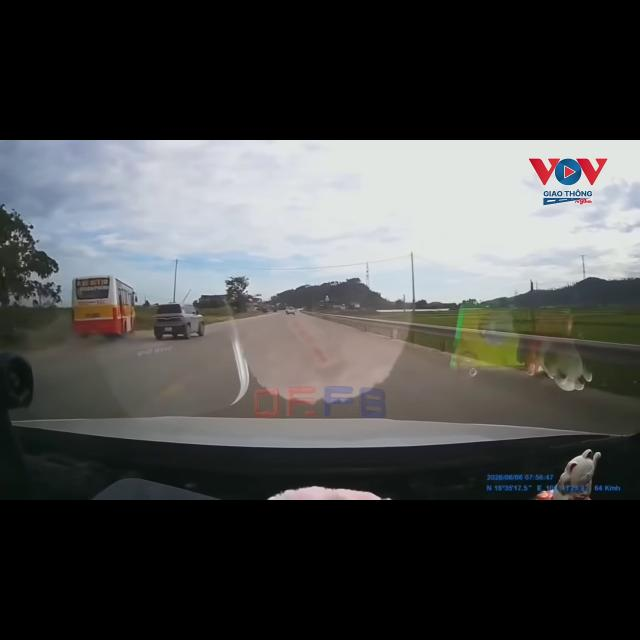bus: (72, 276, 136, 336)
car: (154, 303, 204, 339), (286, 307, 295, 314)
